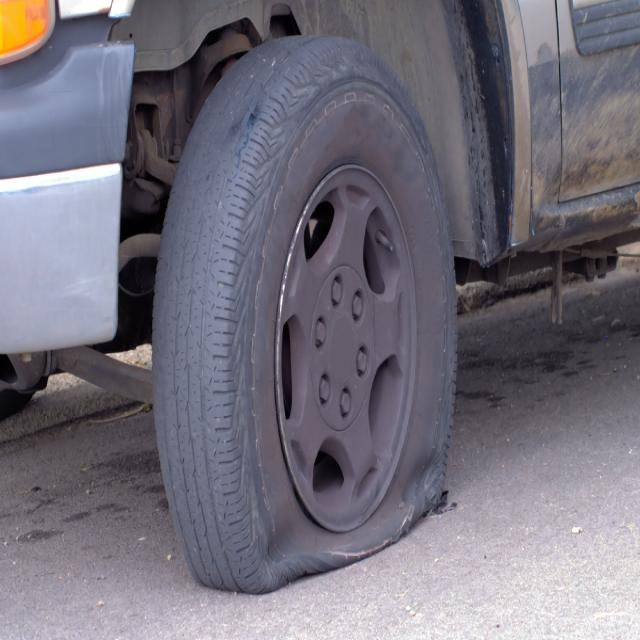tire flat: (150, 33, 457, 601)
